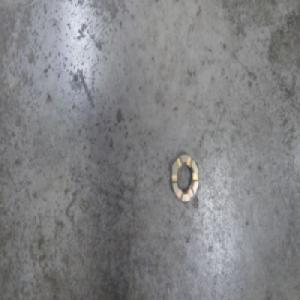Nut: (170, 150, 199, 205)
